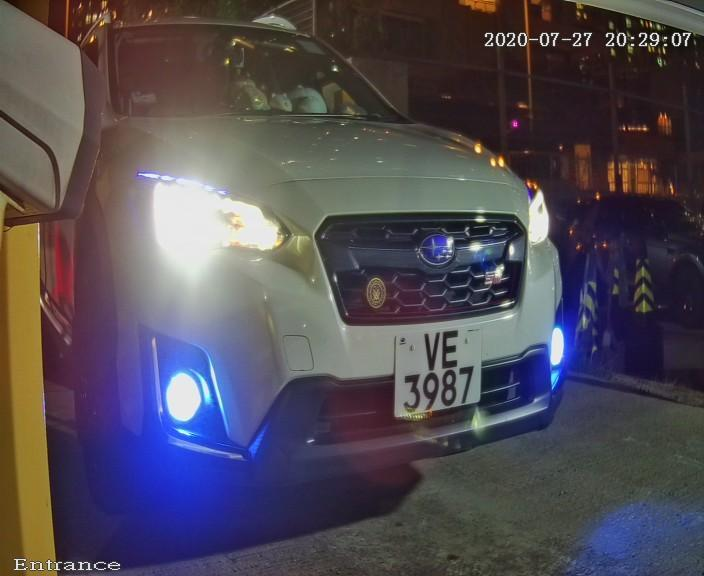privatecar: (57, 3, 604, 535)
